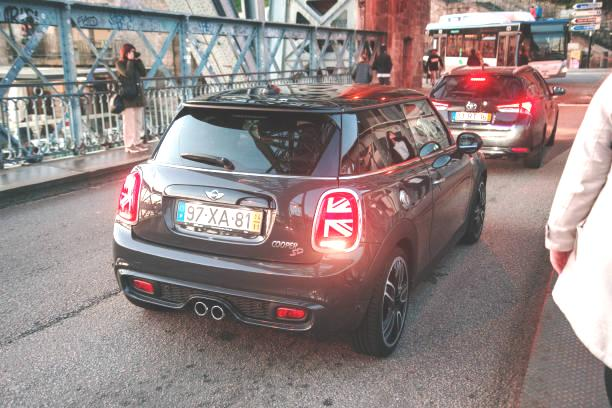Toyota: (463, 100, 483, 114)
mini: (199, 182, 228, 208)
